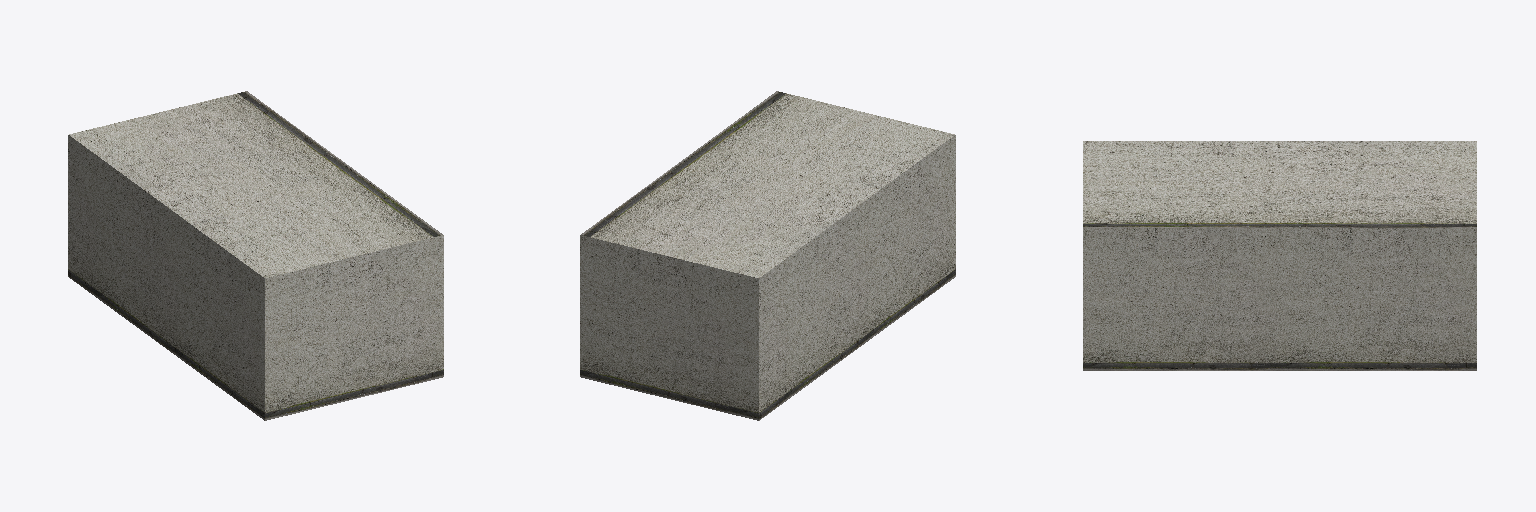
3 renders of one model, left to right at view 1: azimuth 30°, elevation 25°; view 2: azimuth 150°, elevation 25°; view 3: azimuth 270°, elevation 25°, orthographic.
Visible parts, largest first — view 1: L_VertBackLeft_Cube.008; view 2: L_VertBackLeft_Cube.008; view 3: L_VertBackLeft_Cube.008.
Part boxes in pixels (x1,y1,x2,y2): L_VertBackLeft_Cube.008: (68,91,443,420); L_VertBackLeft_Cube.008: (580,91,955,420); L_VertBackLeft_Cube.008: (1083,141,1476,370).
Bounding box in the file's own units: 10.49 × 8 × 20.01.
Materials: 1 (1 with a texture image).